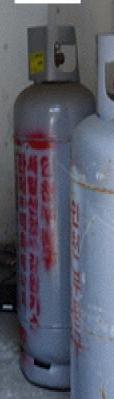cylinder: (0, 1, 114, 399)
